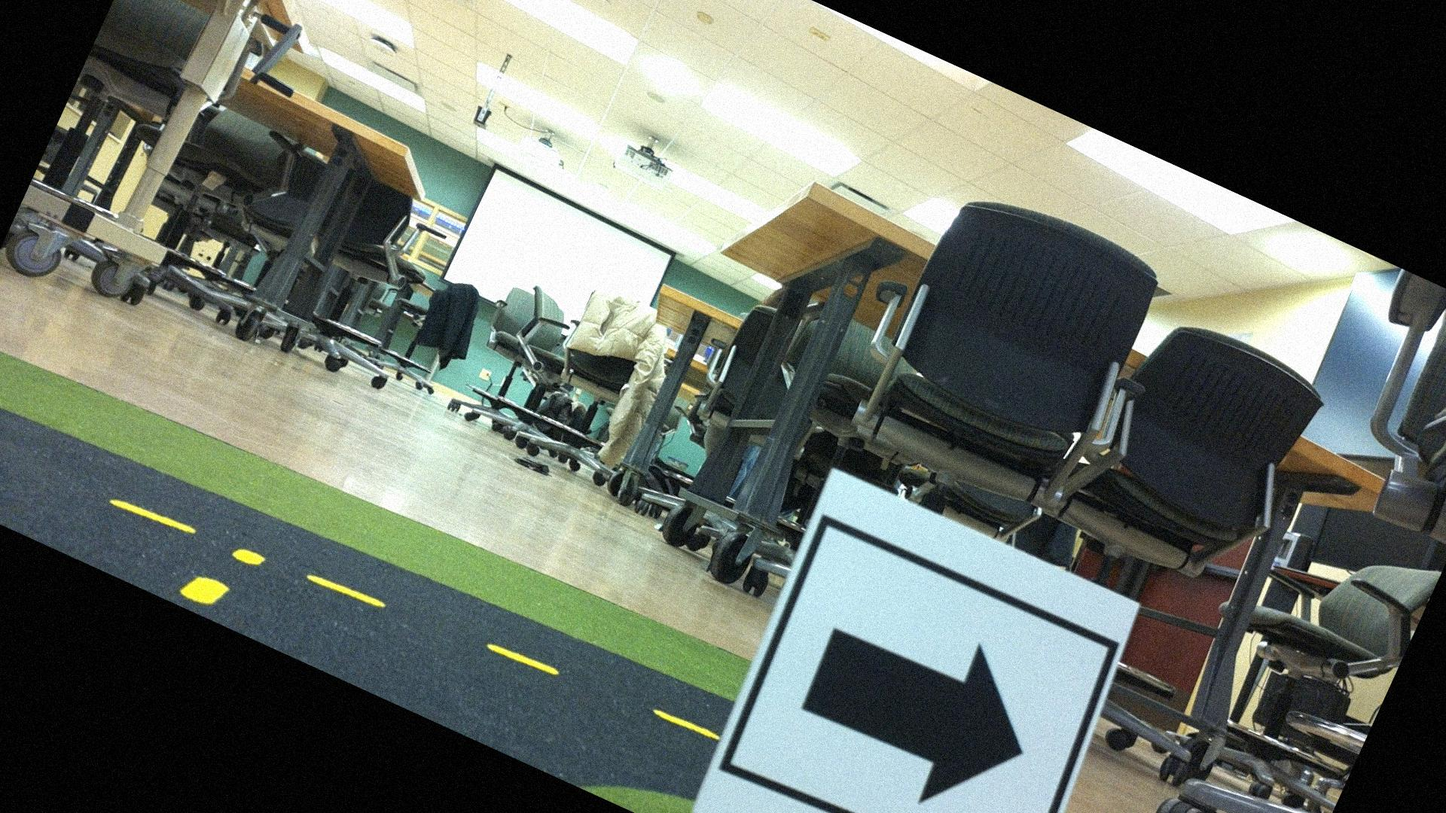turnleft: (716, 483, 1129, 812)
yellowline: (0, 378, 717, 782)
